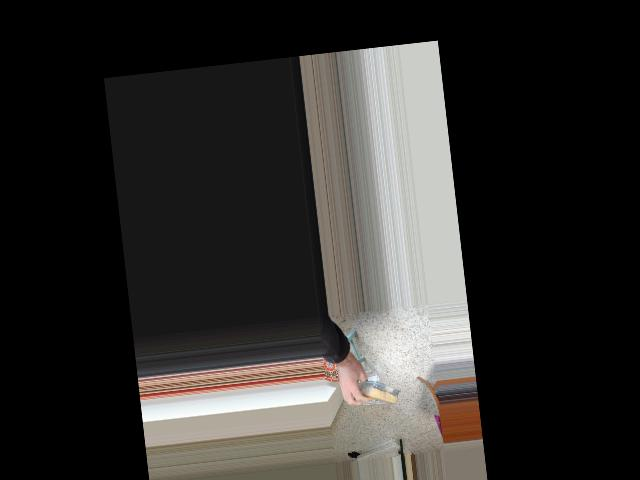cheese: (340, 375, 404, 409)
